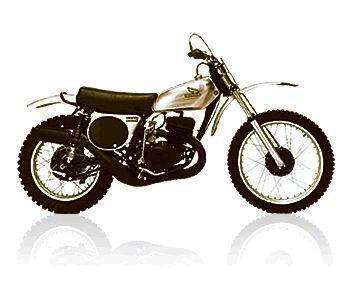motorcycle: (16, 29, 336, 220)
